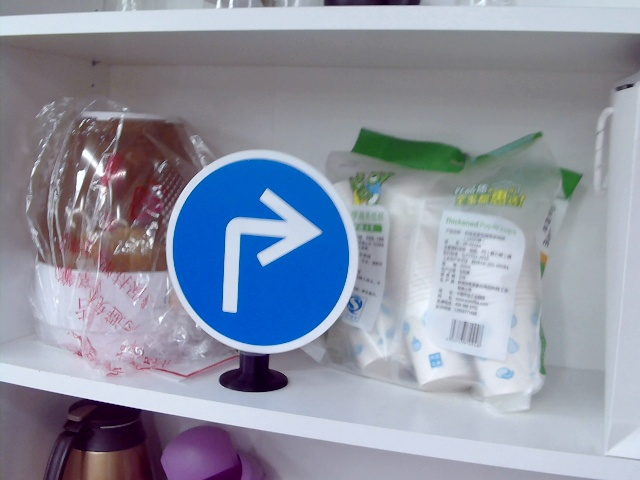turn_right: (219, 187, 321, 316)
